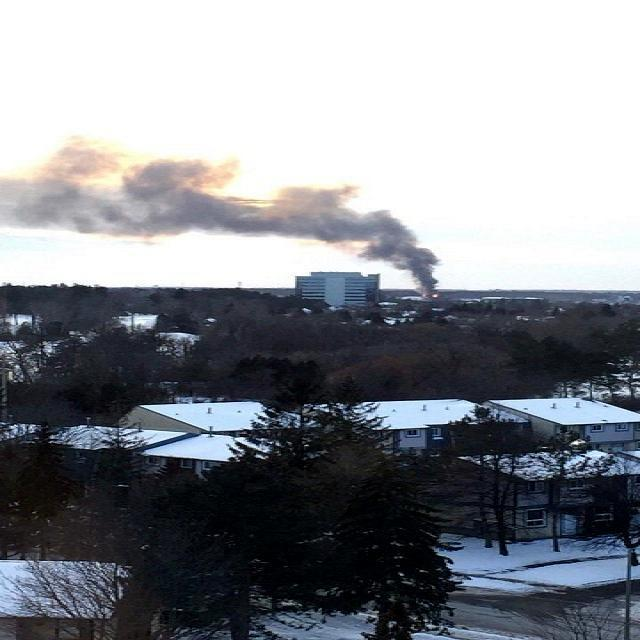Smoke: (12, 147, 440, 281)
